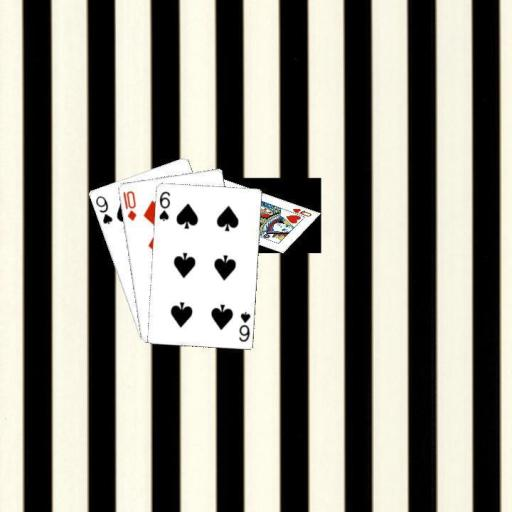card-corner: (92, 193, 114, 225), (120, 187, 138, 222), (235, 308, 252, 342), (156, 188, 171, 222)
